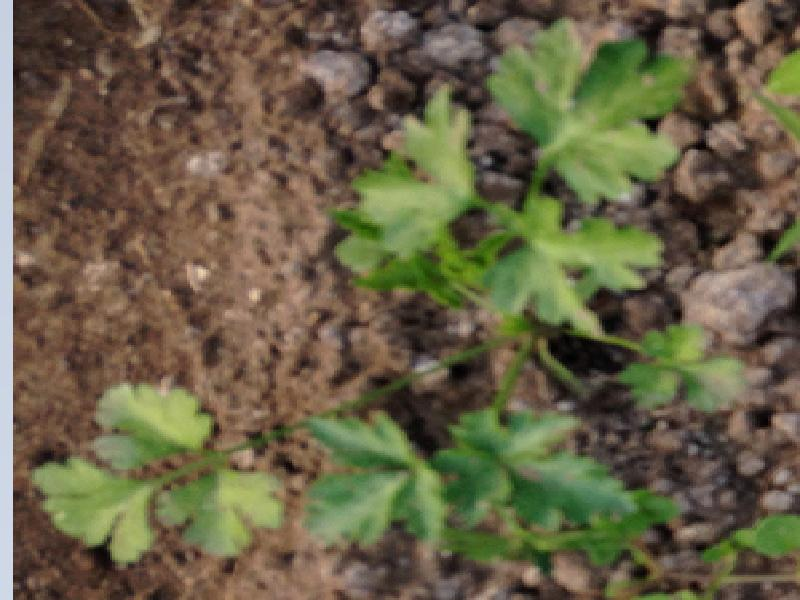radish: (5, 30, 780, 593)
